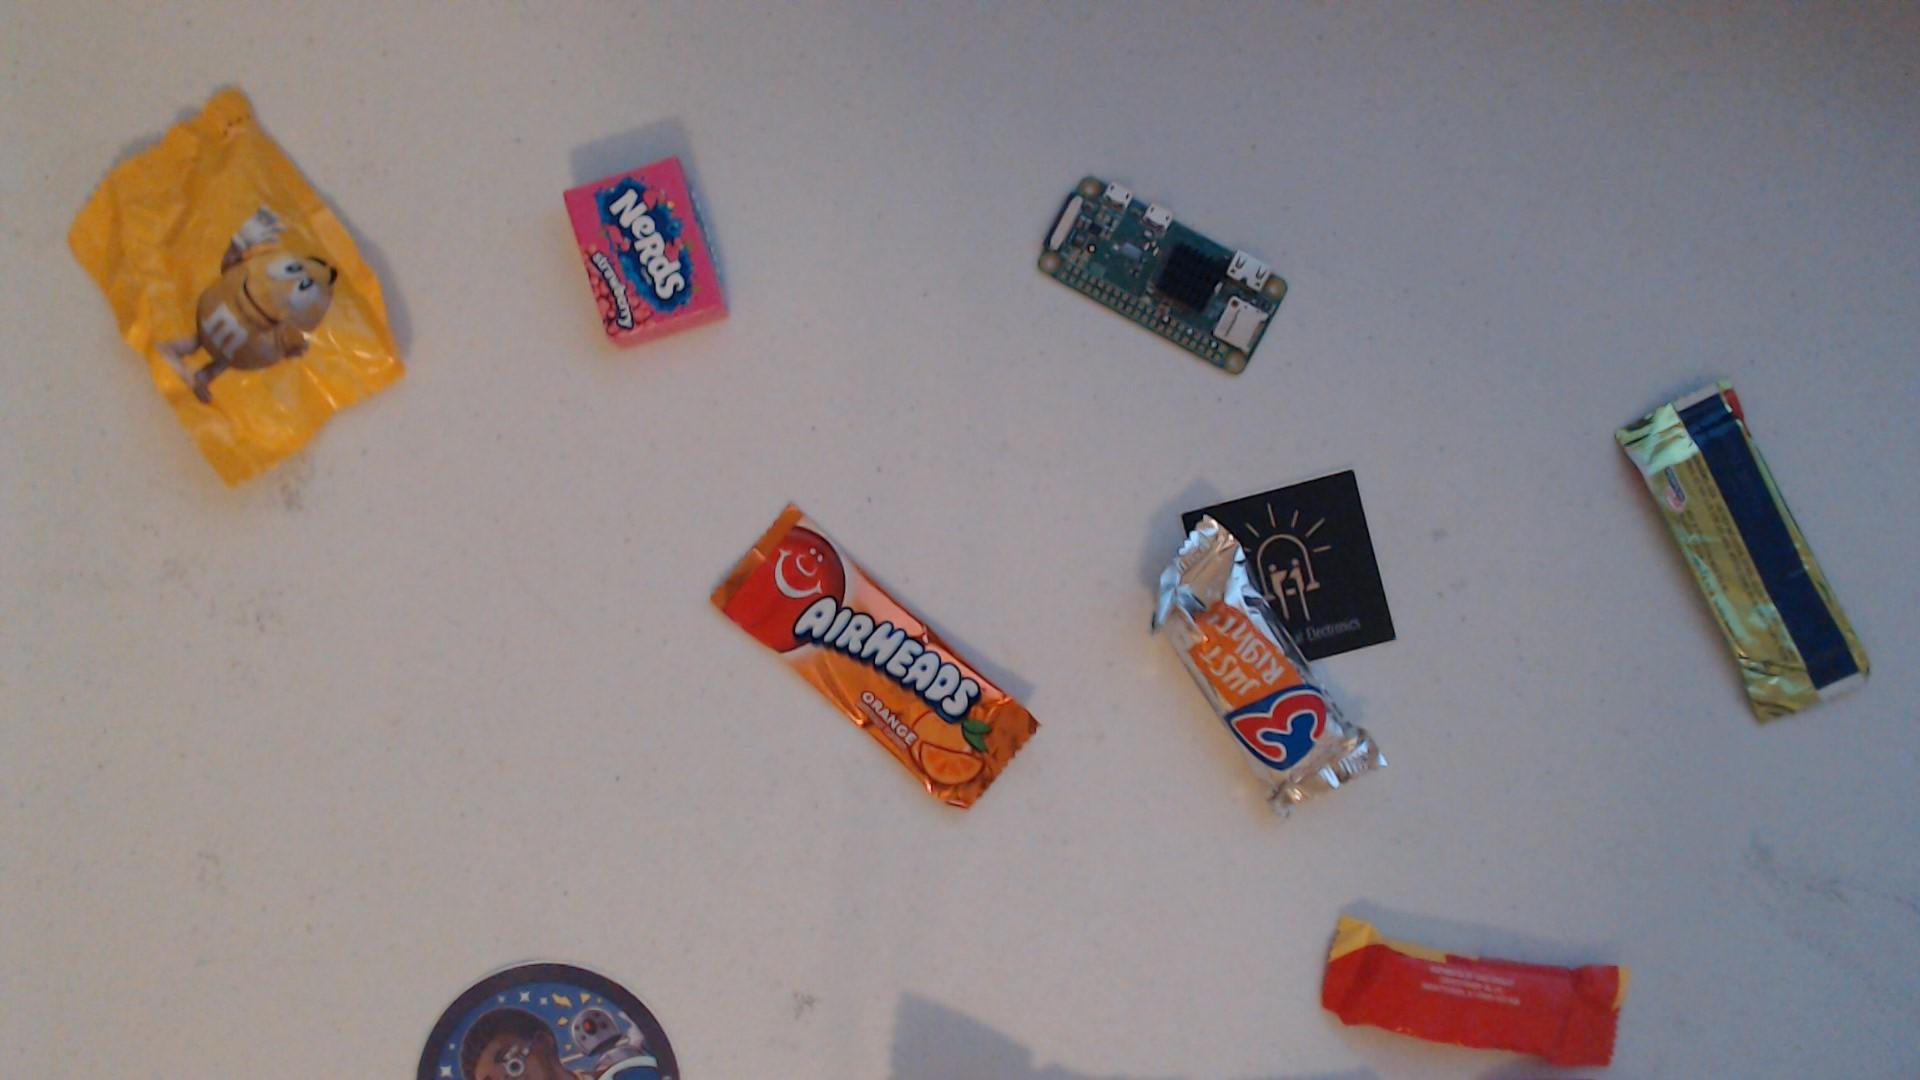MM_yellow: (66, 79, 411, 498)
airheads: (705, 491, 1054, 819), (1604, 372, 1888, 750)
nerds: (555, 149, 746, 365)
starburst: (1300, 902, 1644, 1069)
three: (1150, 509, 1395, 829)
